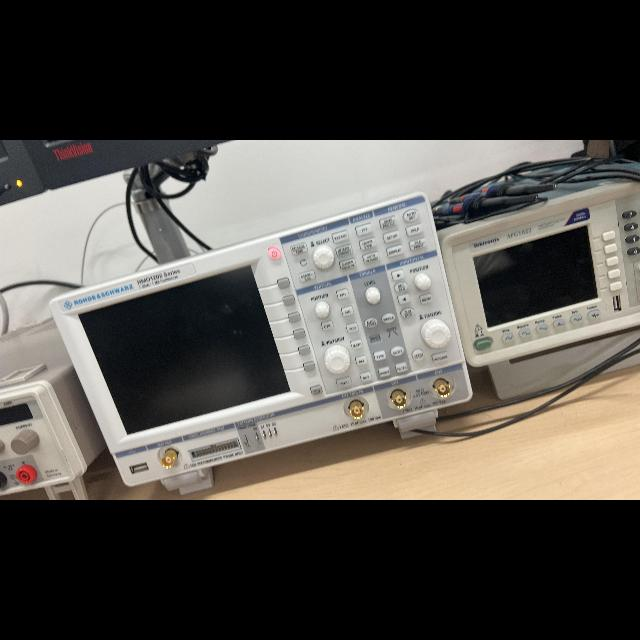Digital-Oscilloscope: (50, 193, 472, 492)
